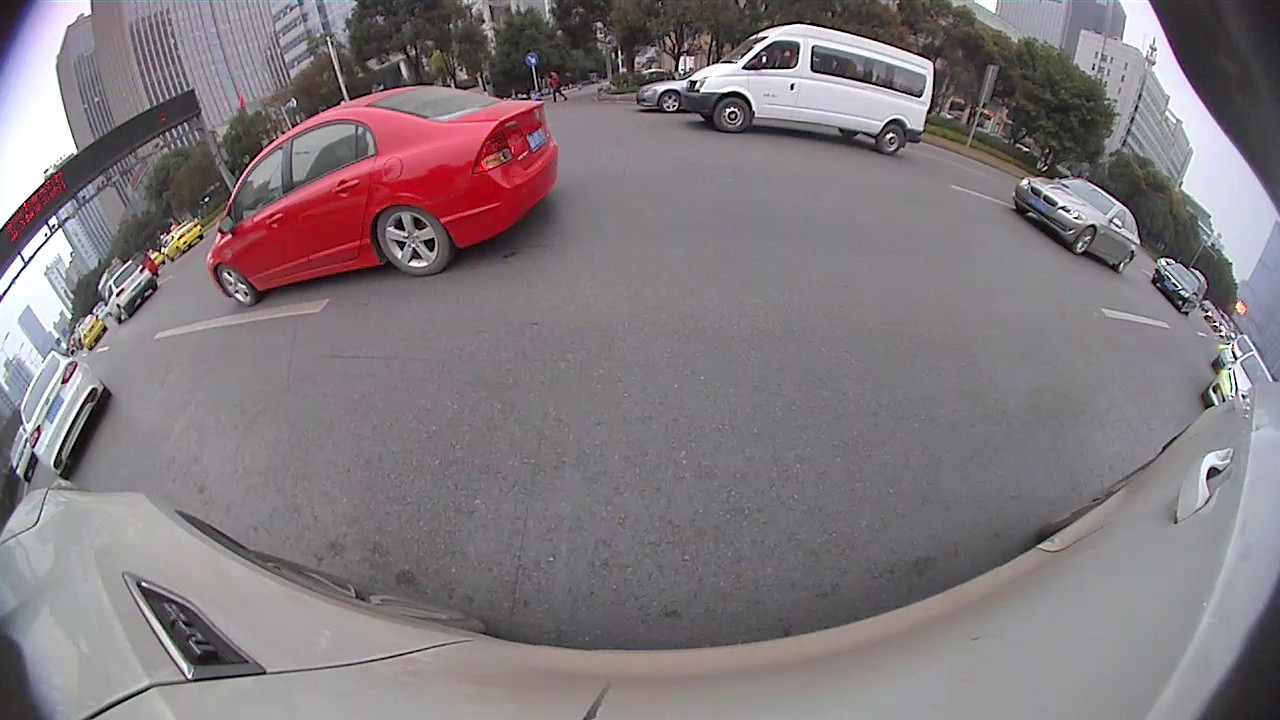car: (208, 84, 558, 308), (681, 22, 936, 154), (1012, 176, 1142, 272), (18, 350, 110, 474), (1205, 350, 1276, 410), (102, 261, 158, 324), (638, 82, 713, 113)
front: (215, 260, 257, 309), (714, 96, 753, 133), (1071, 226, 1098, 256), (658, 89, 681, 114)
rear: (375, 207, 454, 278), (875, 124, 908, 156), (1117, 251, 1136, 273)
